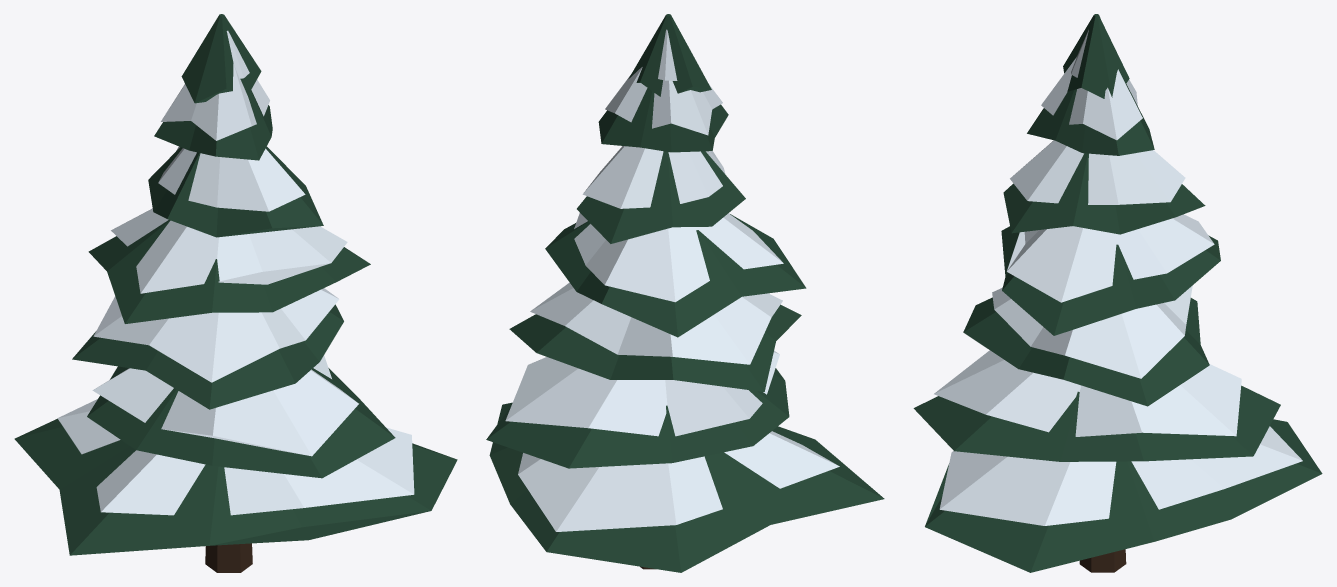
The model's file is Tree_Pine_C.fbx.
3 views of the same model, side by side, from view 1: azimuth 30°, elevation 25°; view 2: azimuth 150°, elevation 25°; view 3: azimuth 270°, elevation 25° (orthographic).
Parts seen in each view (by area): view 1: Tree_Pine_C; view 2: Tree_Pine_C; view 3: Tree_Pine_C.
Boxes of the visible parts, <box> form: Tree_Pine_C: <box>14,14,457,572</box>; Tree_Pine_C: <box>486,14,884,572</box>; Tree_Pine_C: <box>913,14,1322,572</box>.
Size of the model in its own units: 490 by 668 by 455.
